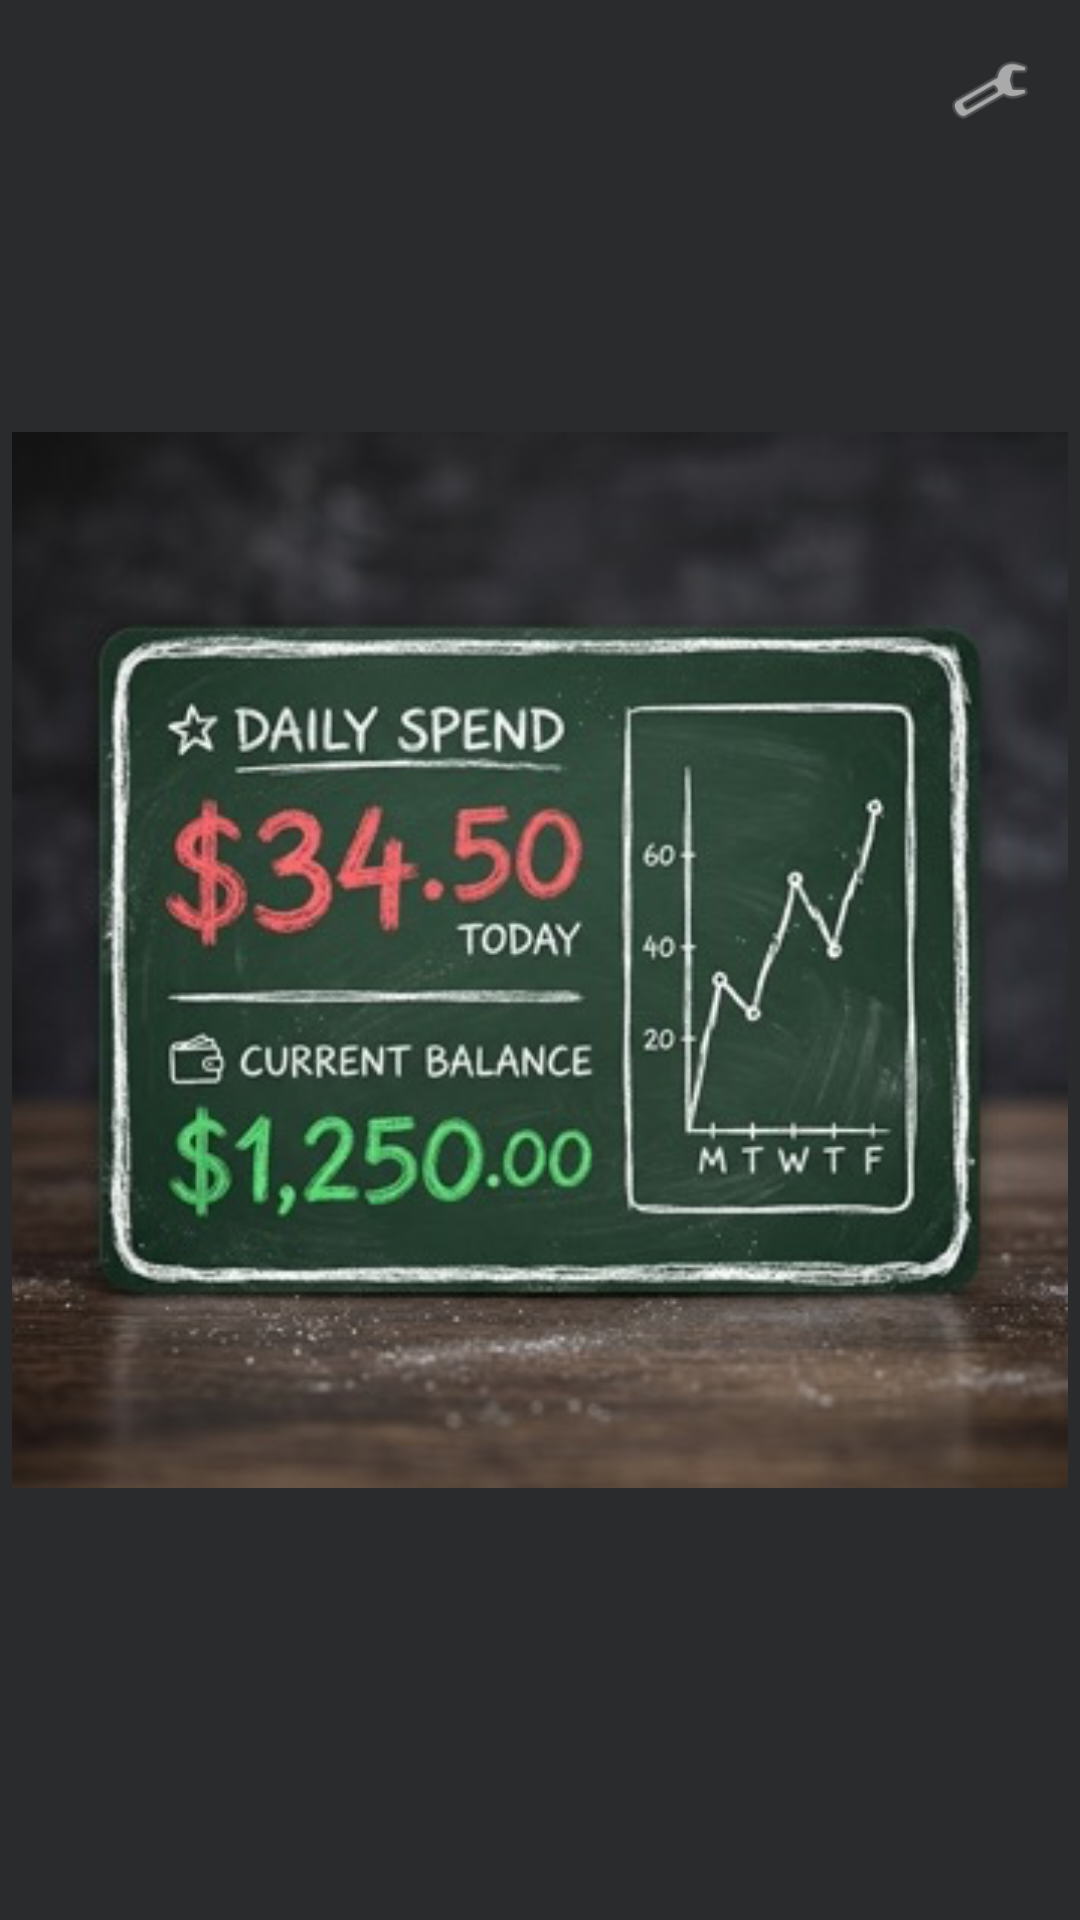

Point at icon controls on the screen. Image size 1080 × 1920, points as point (x, y).
Configure Widget: point (990, 90)
